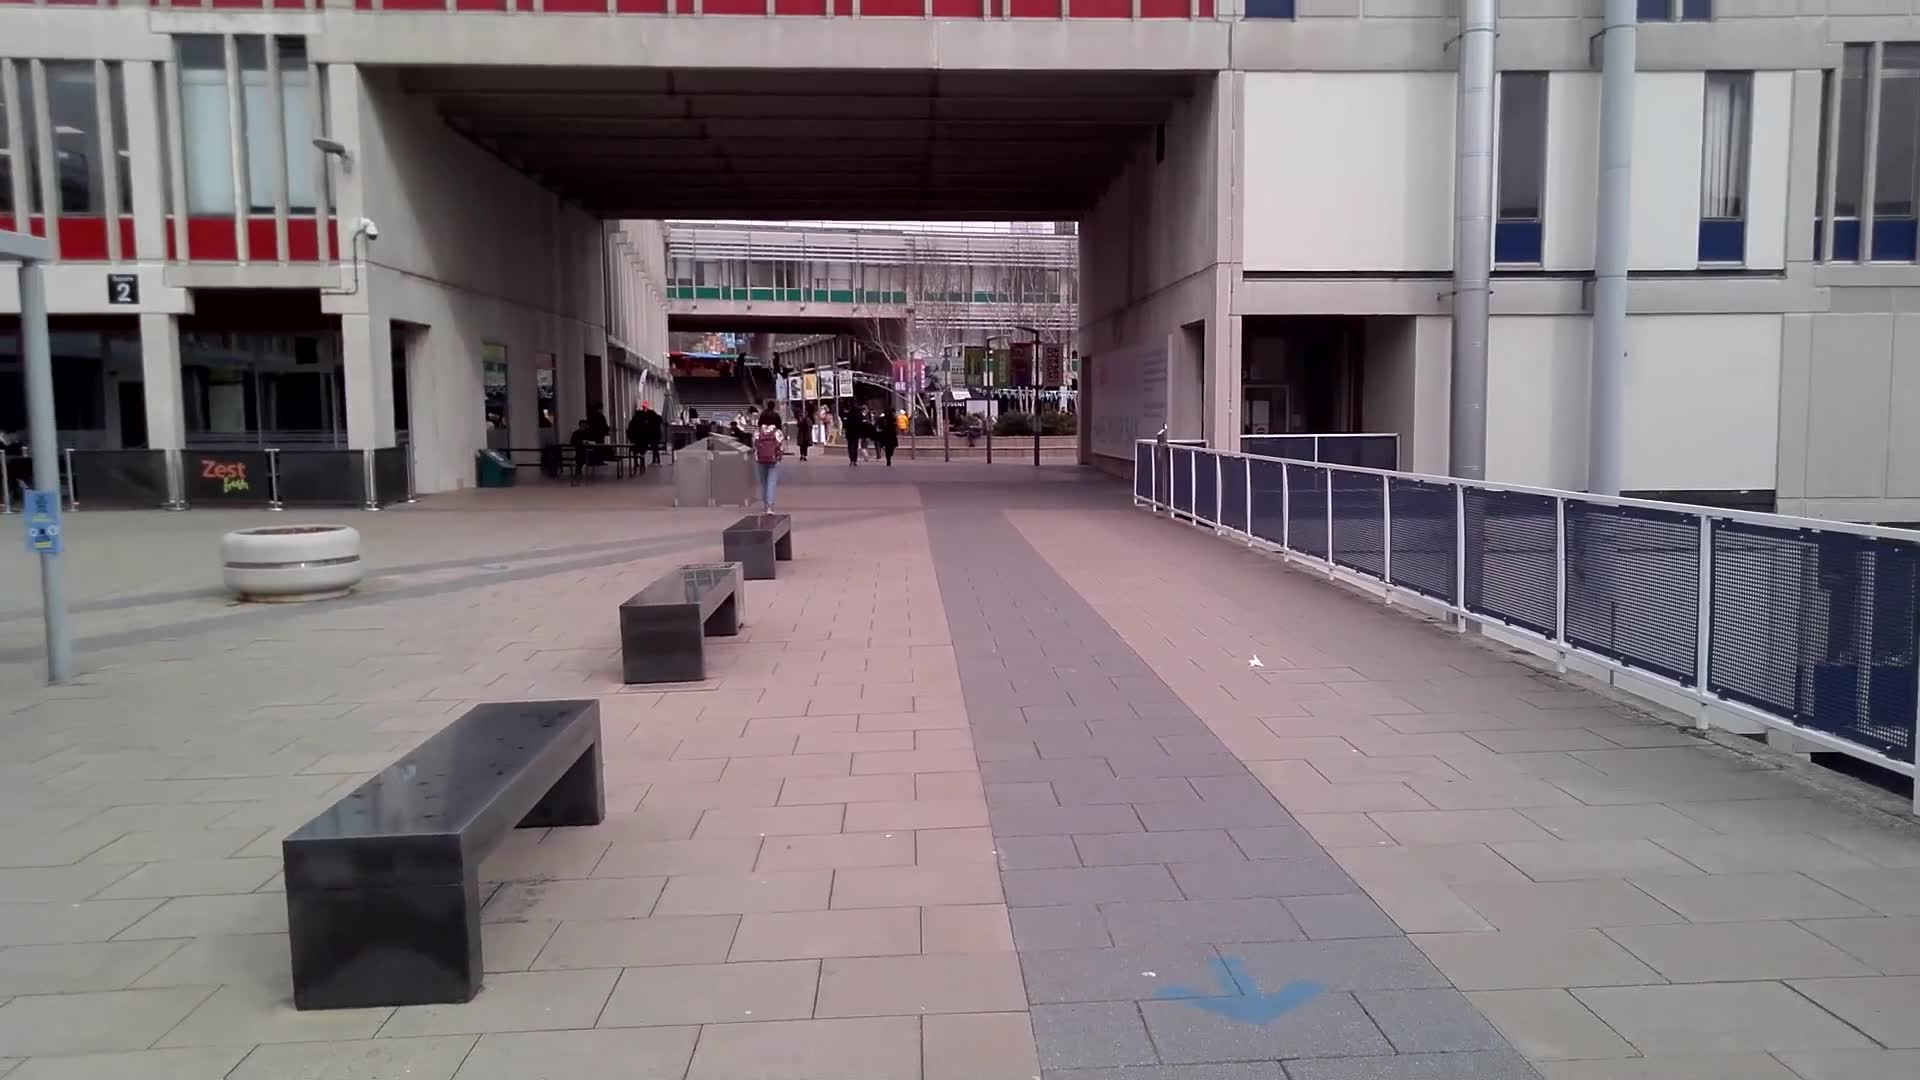Backpack: (757, 433, 780, 465)
Bench: (281, 697, 608, 1007), (617, 563, 745, 681), (721, 513, 796, 579)
Person: (752, 411, 781, 506)
